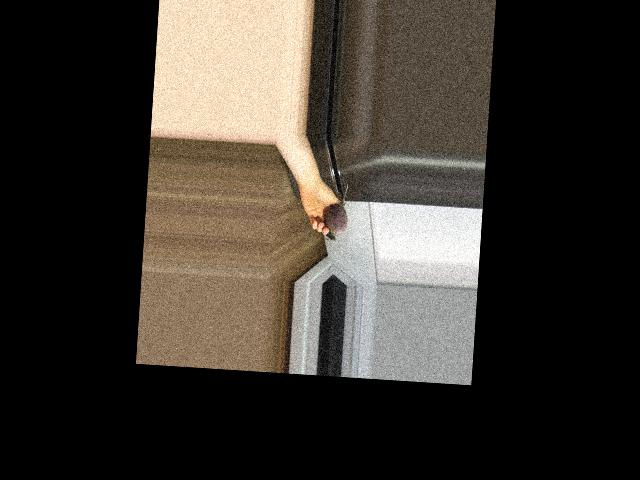beet: (323, 183, 349, 241)
